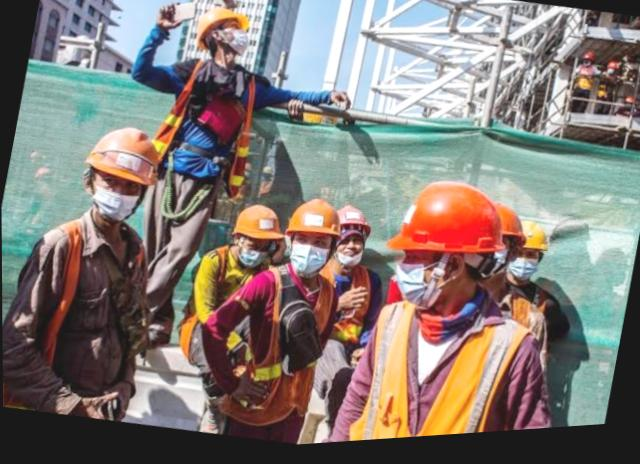helmet: (375, 172, 514, 280), (84, 120, 171, 195), (190, 0, 254, 62), (229, 202, 289, 251), (284, 196, 343, 244), (469, 204, 527, 248), (503, 221, 549, 263), (328, 201, 374, 239), (582, 56, 594, 72), (607, 68, 617, 79)
vest: (1, 204, 148, 427), (343, 293, 530, 446), (211, 256, 341, 438), (139, 55, 262, 207), (170, 241, 268, 370), (301, 259, 378, 348), (455, 286, 537, 338), (571, 66, 599, 100), (509, 284, 544, 306), (592, 79, 615, 108)
